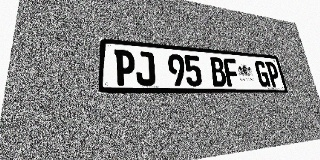5: (184, 55, 203, 86)
9: (167, 53, 187, 86)
B: (209, 57, 227, 86)
F: (223, 58, 241, 87)
G: (254, 60, 271, 87)
J: (135, 51, 156, 86)
P: (114, 49, 136, 86), (265, 61, 281, 87)
